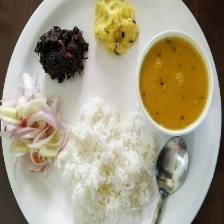dal: (136, 33, 213, 133)
